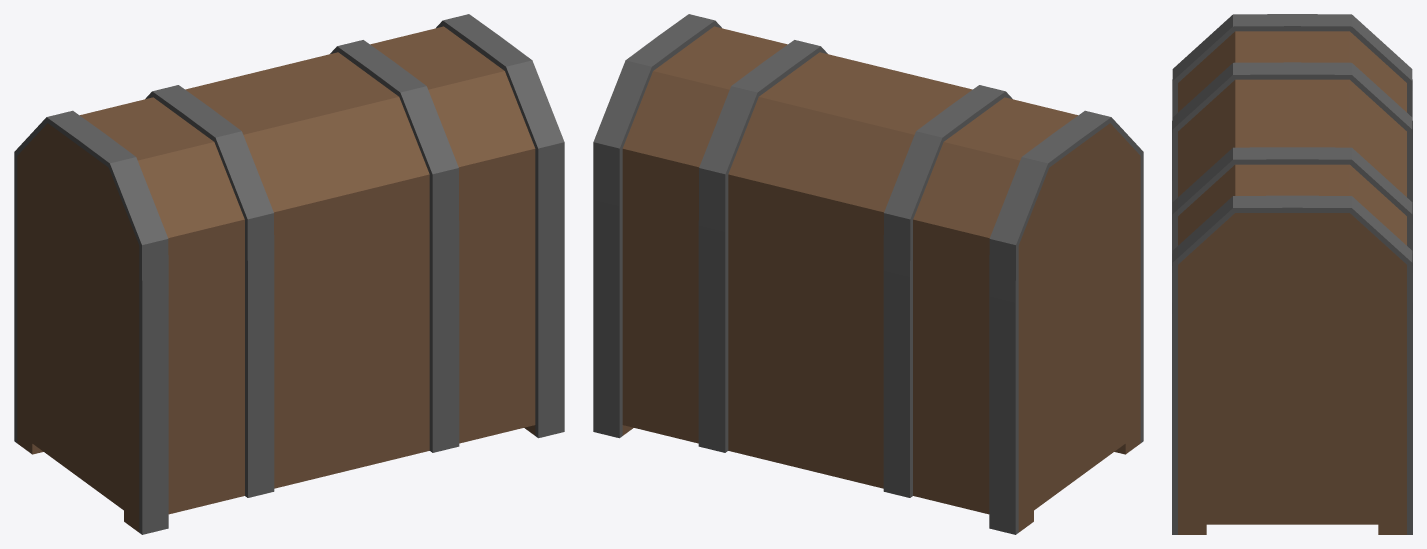
The model's file is Bau_Animado.fbx.
3 views of the same model, side by side, from view 1: azimuth 30°, elevation 25°; view 2: azimuth 150°, elevation 25°; view 3: azimuth 270°, elevation 25° (orthographic). The views are drawn at different scales.
Visible parts, largest first — view 1: Base, Tampo; view 2: Base, Tampo; view 3: Tampo, Base.
Boxes of the visible parts, x1,y1,x2,y2 form: Base: (14, 200, 564, 534); Tampo: (14, 14, 564, 302); Base: (593, 200, 1143, 534); Tampo: (593, 14, 1143, 302); Tampo: (1172, 14, 1412, 316); Base: (1172, 135, 1412, 534).
Size of the model in its own units: 4 by 3.15 by 2.1.
